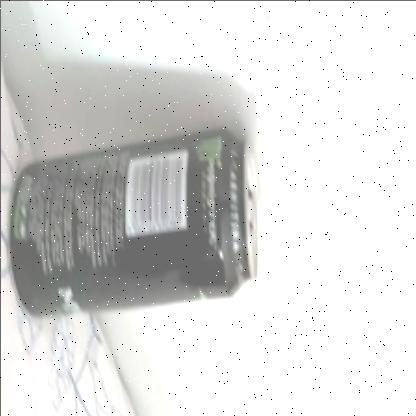Can: (6, 126, 256, 320)
